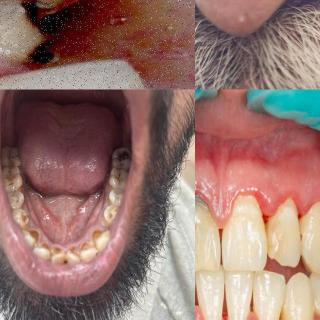Gum Swelling: (195, 176, 320, 227)
calculus: (195, 187, 217, 231), (28, 227, 44, 245), (89, 224, 101, 244), (76, 238, 88, 252), (38, 241, 52, 253), (50, 245, 61, 258), (70, 240, 78, 256)
cavities: (0, 0, 91, 86), (118, 146, 130, 168), (6, 147, 18, 163), (116, 170, 123, 184)
maligned: (256, 268, 282, 320), (284, 276, 314, 320), (66, 242, 82, 266), (52, 244, 66, 263)
stains: (2, 165, 24, 189), (106, 167, 124, 193), (110, 150, 128, 173), (104, 187, 122, 208), (91, 223, 108, 244), (76, 241, 93, 259), (101, 205, 115, 225), (28, 226, 42, 242), (19, 211, 32, 227), (66, 245, 78, 261), (41, 241, 50, 253), (19, 199, 29, 209), (14, 156, 21, 170), (55, 248, 61, 258)
